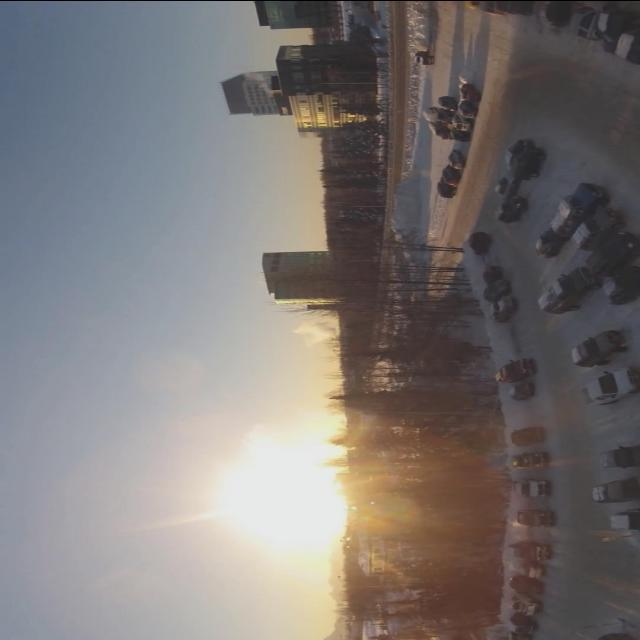Fire: (244, 68, 270, 98)
